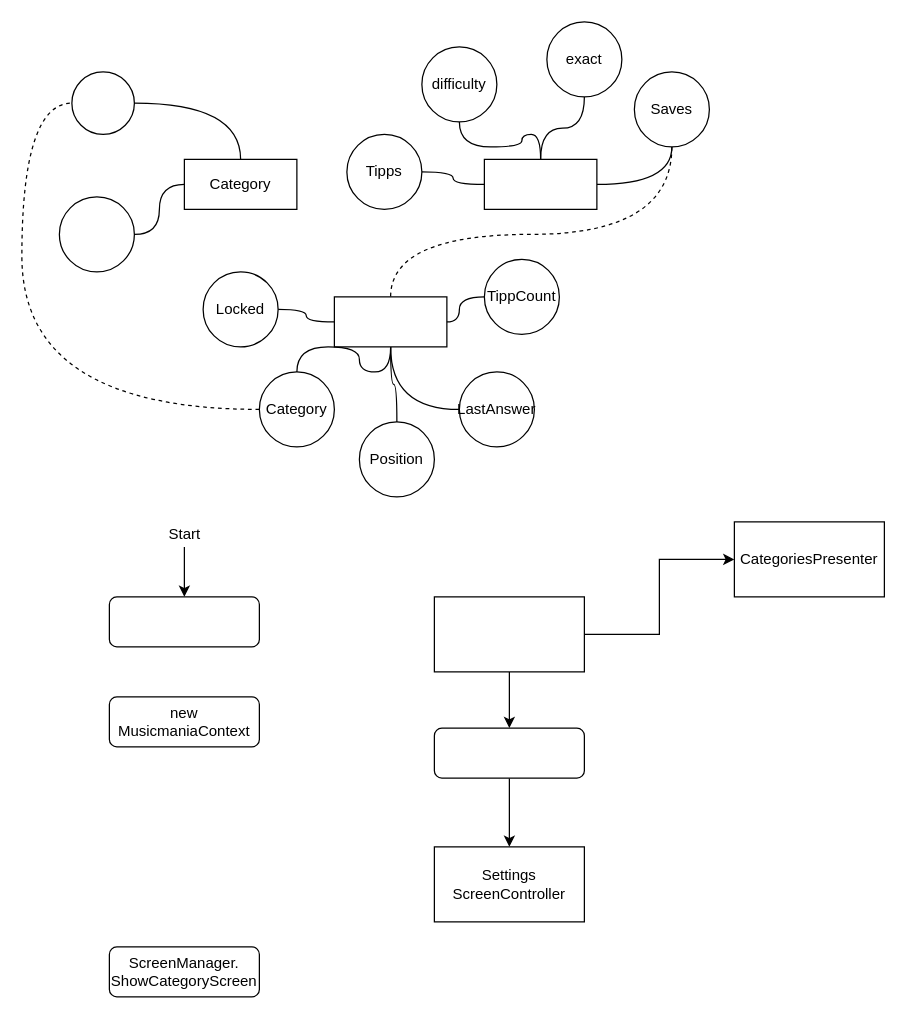
Some shapes in this 906 by 1019 pixel diagram are drawn without their labels. The centre of each missing label's shape, as x and y in pixels:
AppInitializer: point 183,621
Main ScreenController: point 508,634
Name: point 102,102
OpenSettingsButton: point 508,752
Question: point 540,183
QuestionSave: point 390,321
Thumbnail: point 96,234
